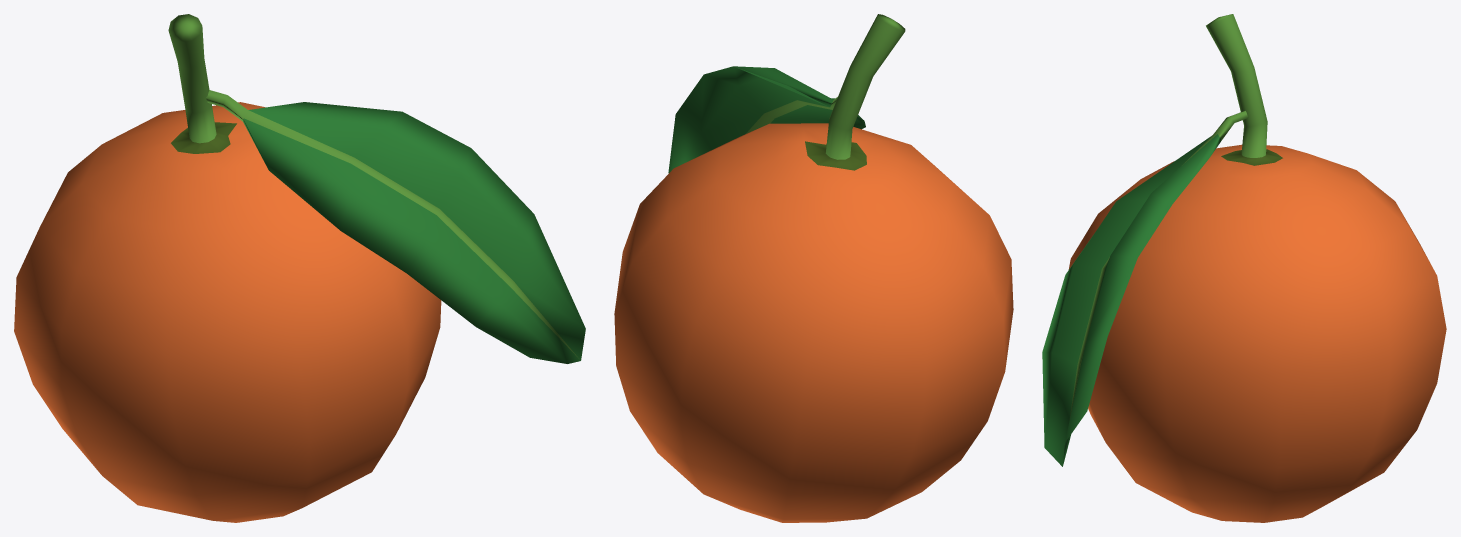
File: SM_Fruits_Orange_1.fbx
The picture shows the model from 3 angles, left to right: view 1: azimuth 30°, elevation 25°; view 2: azimuth 150°, elevation 25°; view 3: azimuth 270°, elevation 25°; orthographic projection. The views are drawn at different scales.
Visible parts, largest first — view 1: SM_Fruits_Orange_1; view 2: SM_Fruits_Orange_1; view 3: SM_Fruits_Orange_1.
Part boxes in pixels (box(x1,y1,x2,y2)): SM_Fruits_Orange_1: box(14, 14, 585, 522); SM_Fruits_Orange_1: box(614, 14, 1013, 522); SM_Fruits_Orange_1: box(1042, 14, 1446, 522).
Size of the model in its own units: 18.85 by 21.43 by 16.76.
